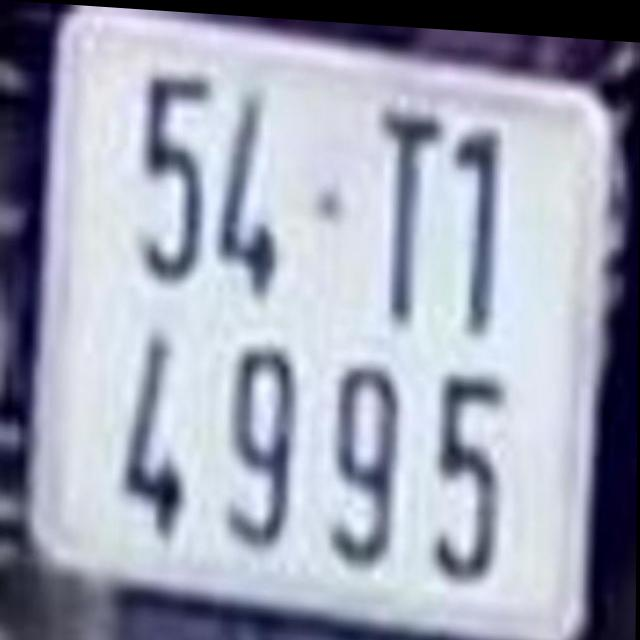1: (453, 116, 506, 326)
4: (117, 327, 185, 538), (216, 85, 281, 300)
5: (139, 69, 210, 281), (437, 359, 504, 582)
9: (229, 339, 295, 548), (333, 362, 392, 556)
T: (379, 94, 447, 319)
